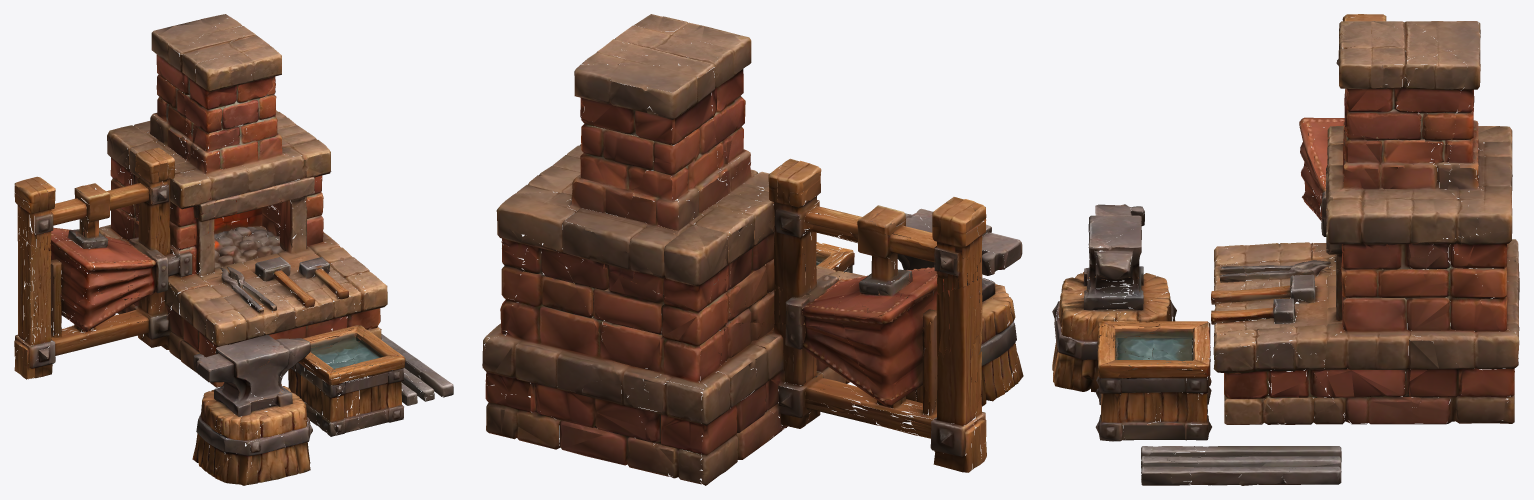
Rendered from smithy.glb.
The picture shows the model from 3 angles, left to right: view 1: azimuth 30°, elevation 25°; view 2: azimuth 150°, elevation 25°; view 3: azimuth 270°, elevation 25°; orthographic projection. The views are drawn at different scales.
Parts seen in each view (by area): view 1: tripo_node_49512f5b-4c4d-4ae6-ae6c-9eca1feb4eb2; view 2: tripo_node_49512f5b-4c4d-4ae6-ae6c-9eca1feb4eb2; view 3: tripo_node_49512f5b-4c4d-4ae6-ae6c-9eca1feb4eb2.
Part boxes in pixels (left/top/right/bottom): tripo_node_49512f5b-4c4d-4ae6-ae6c-9eca1feb4eb2: left=14, top=14, right=453, bottom=485; tripo_node_49512f5b-4c4d-4ae6-ae6c-9eca1feb4eb2: left=482, top=14, right=1023, bottom=485; tripo_node_49512f5b-4c4d-4ae6-ae6c-9eca1feb4eb2: left=1052, top=14, right=1519, bottom=485.
Bounding box in the file's own units: 0.9809 × 0.8494 × 0.9557.
Materials: 1 (1 with a texture image).
